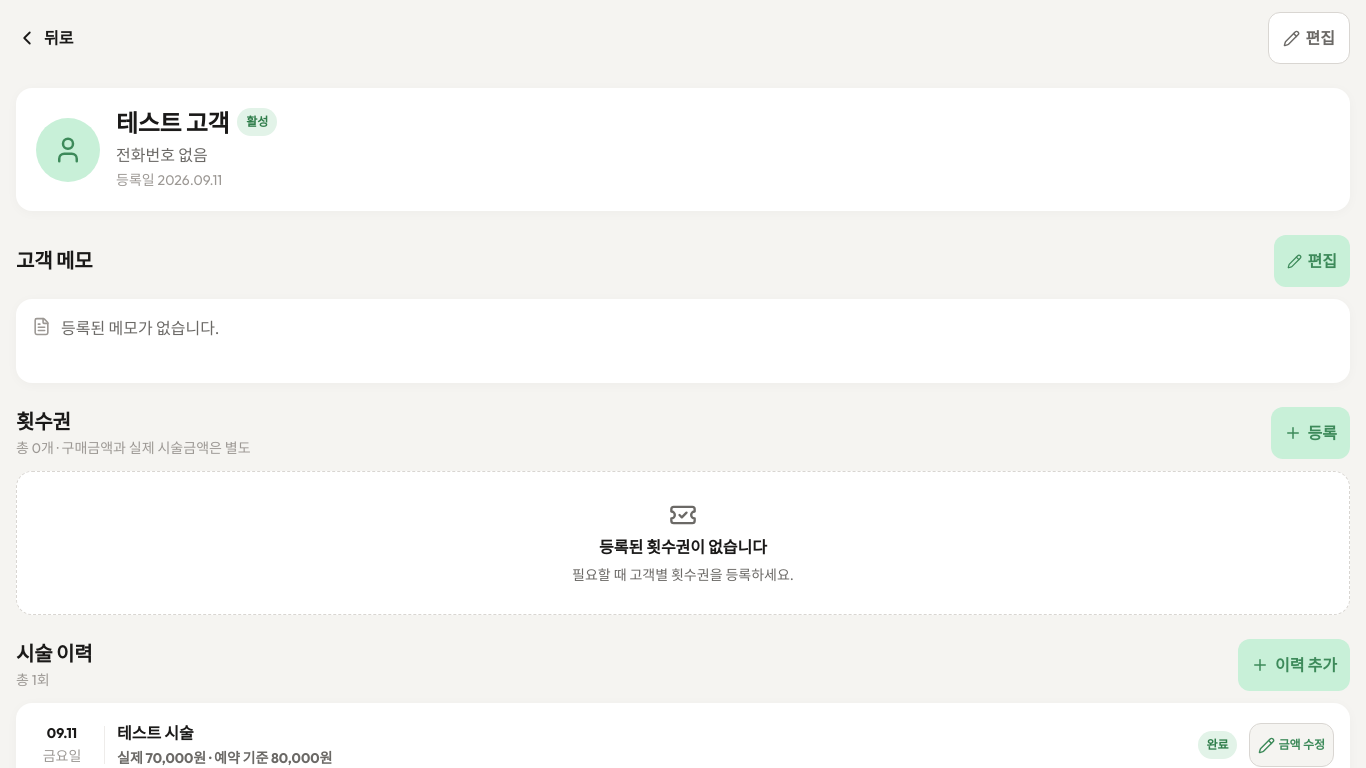
Scenario: 잘못된 금액 -1는 저장하지 않는다
Click the button with aria-label "테스트 시술 실제 시술금액 수정" at (1291, 745), box x1=1248 y1=723 x2=1334 y2=767
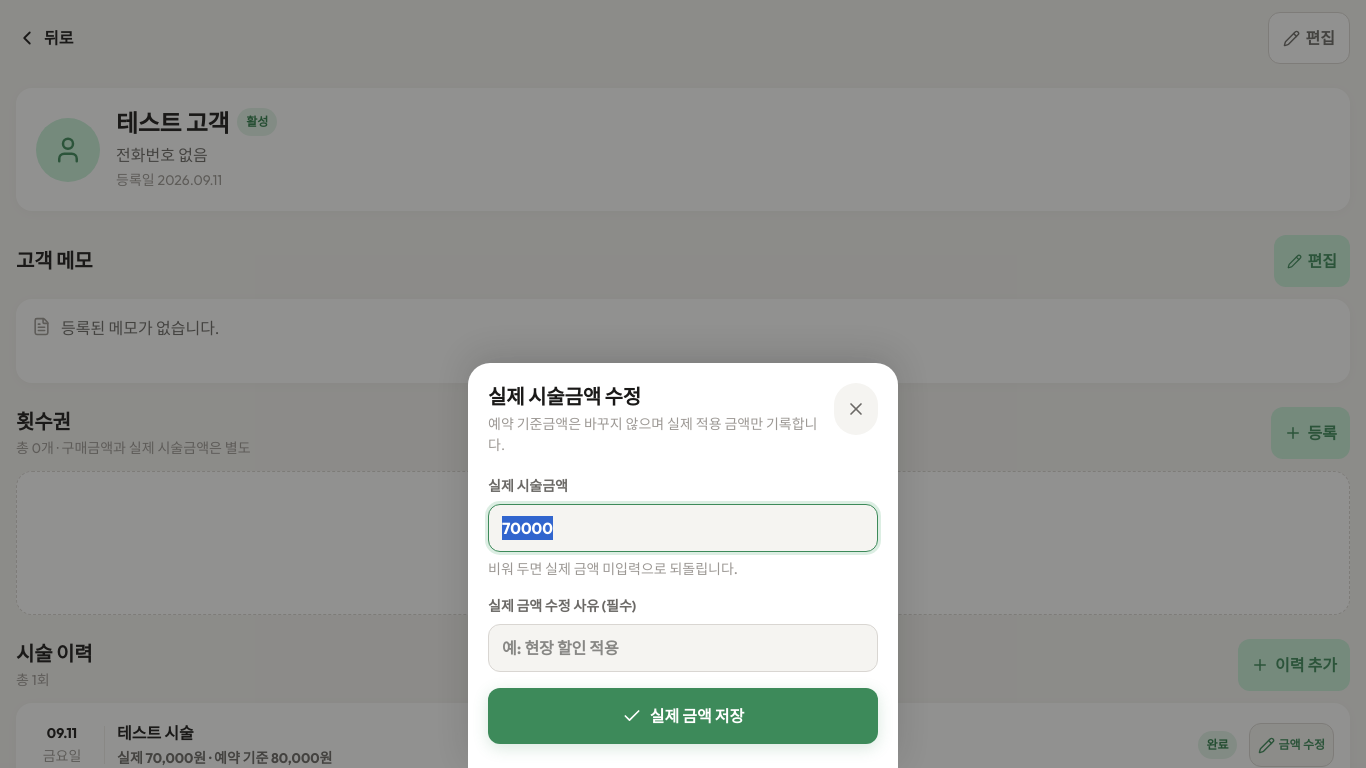
Replace the text in the field with placeholder "미입력" with "-1" at (683, 528), box x1=488 y1=504 x2=878 y2=552
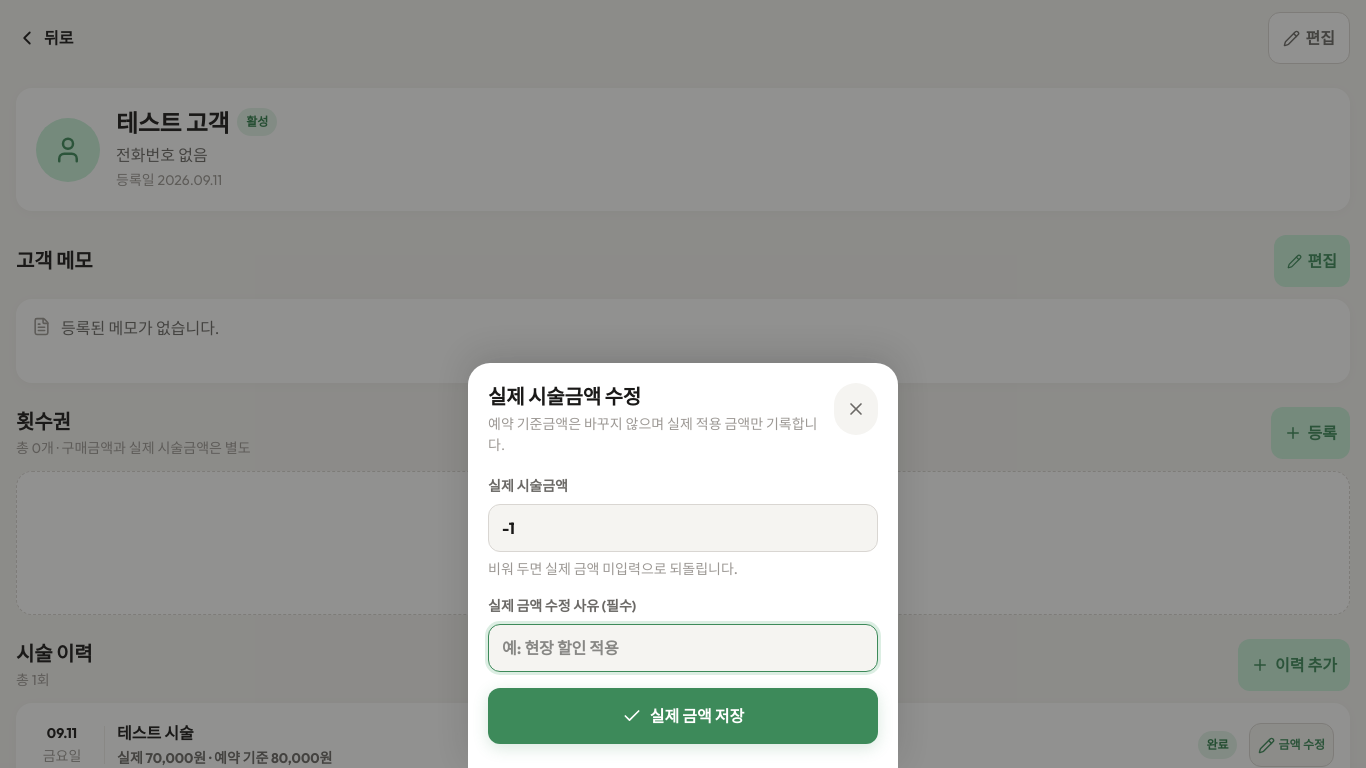
Type "확인" into the field with placeholder "예: 현장 할인 적용" at (683, 648), box x1=488 y1=624 x2=878 y2=672
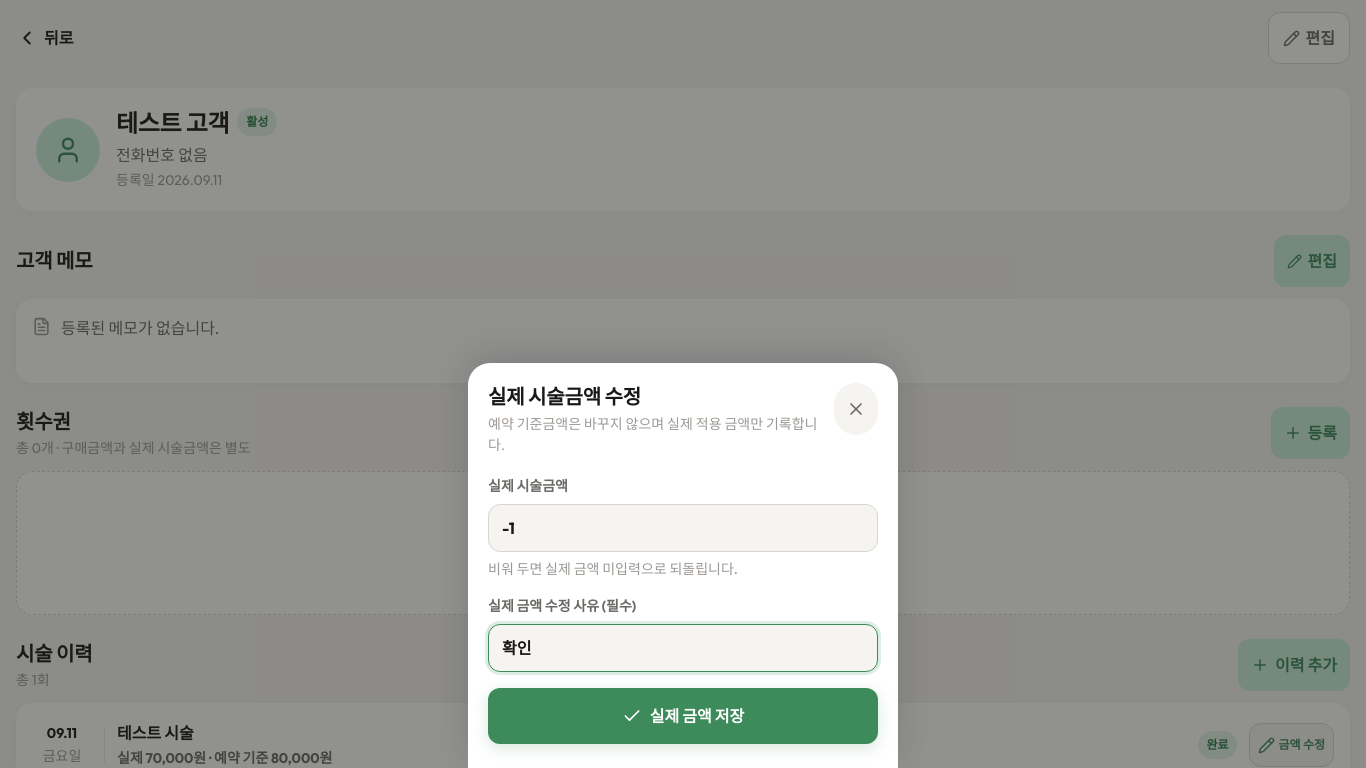
Submit the form with placeholder "미입력", box x1=488 y1=476 x2=878 y2=744
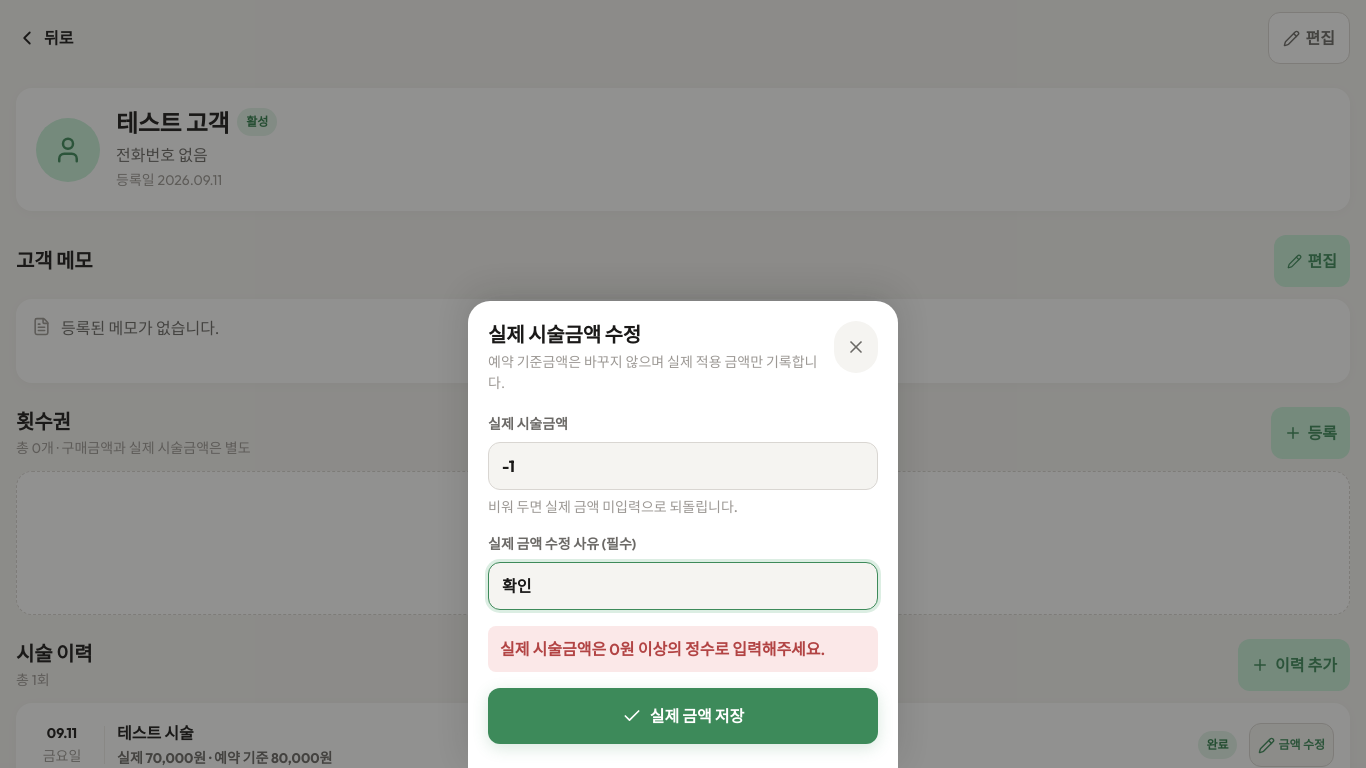
Check: the message shows "금액", box x1=488 y1=626 x2=878 y2=672
